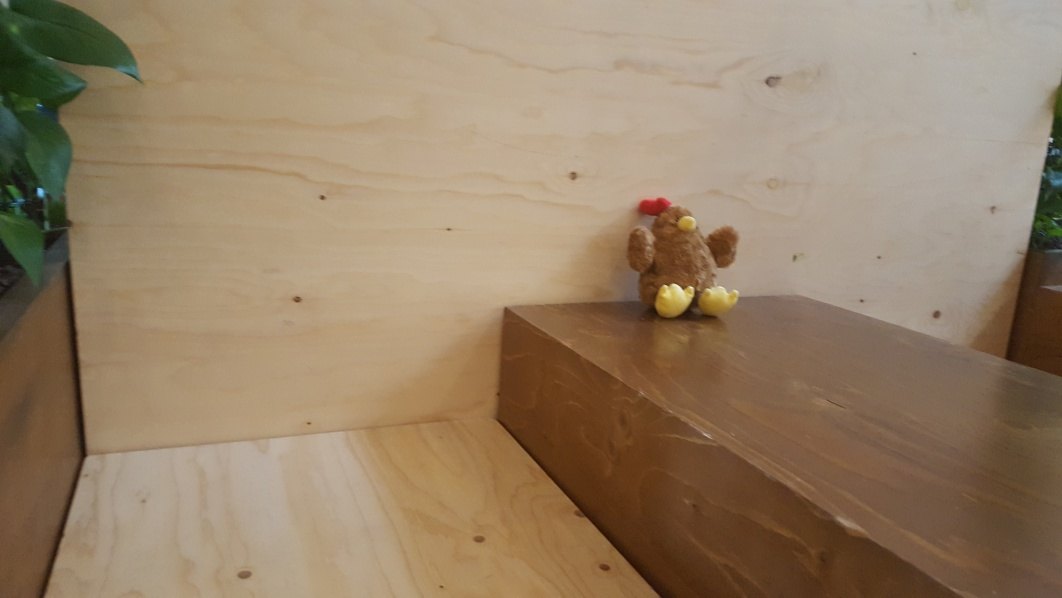chicken: (630, 188, 743, 321)
